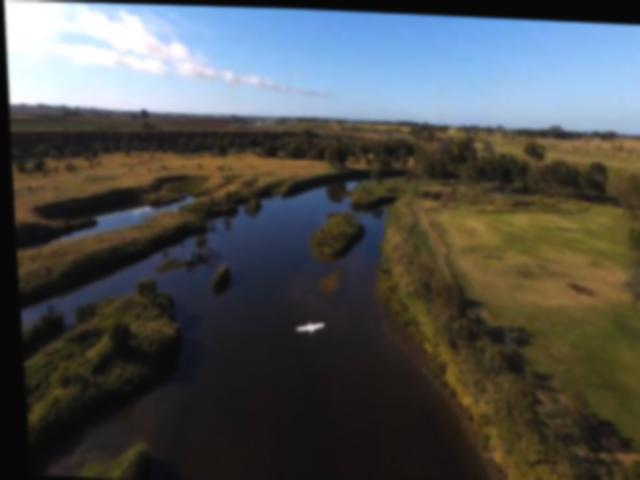uav: (289, 315, 323, 338)
